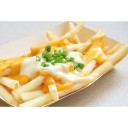frenchfries: (2, 22, 127, 106)
